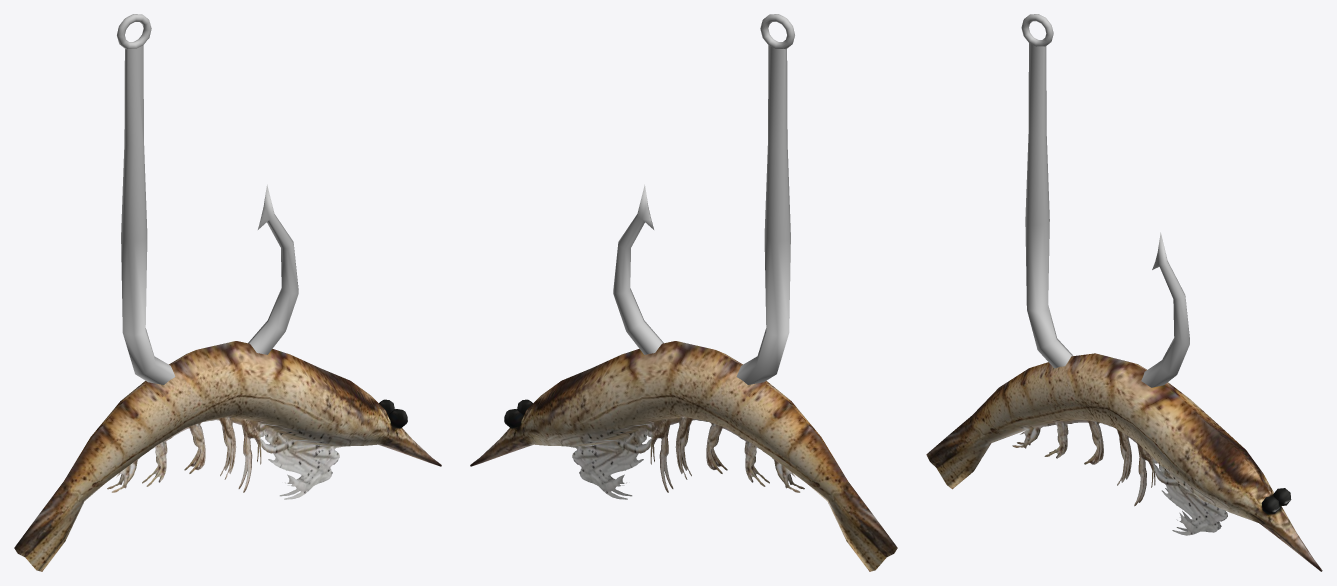
Rendered from Bait_SandShrimp.fbx.
3 views of the same model, side by side, from view 1: azimuth 30°, elevation 25°; view 2: azimuth 150°, elevation 25°; view 3: azimuth 330°, elevation 25° (orthographic). The views are drawn at different scales.
Visible parts, largest first — view 1: Bait_SandShrimp; view 2: Bait_SandShrimp; view 3: Bait_SandShrimp.
Part boxes in pixels (<box>): Bait_SandShrimp: <box>14,14,441,571</box>; Bait_SandShrimp: <box>470,14,897,571</box>; Bait_SandShrimp: <box>926,14,1322,571</box>.
Size of the model in its own units: 0.4987 by 0.5967 by 0.0781.
